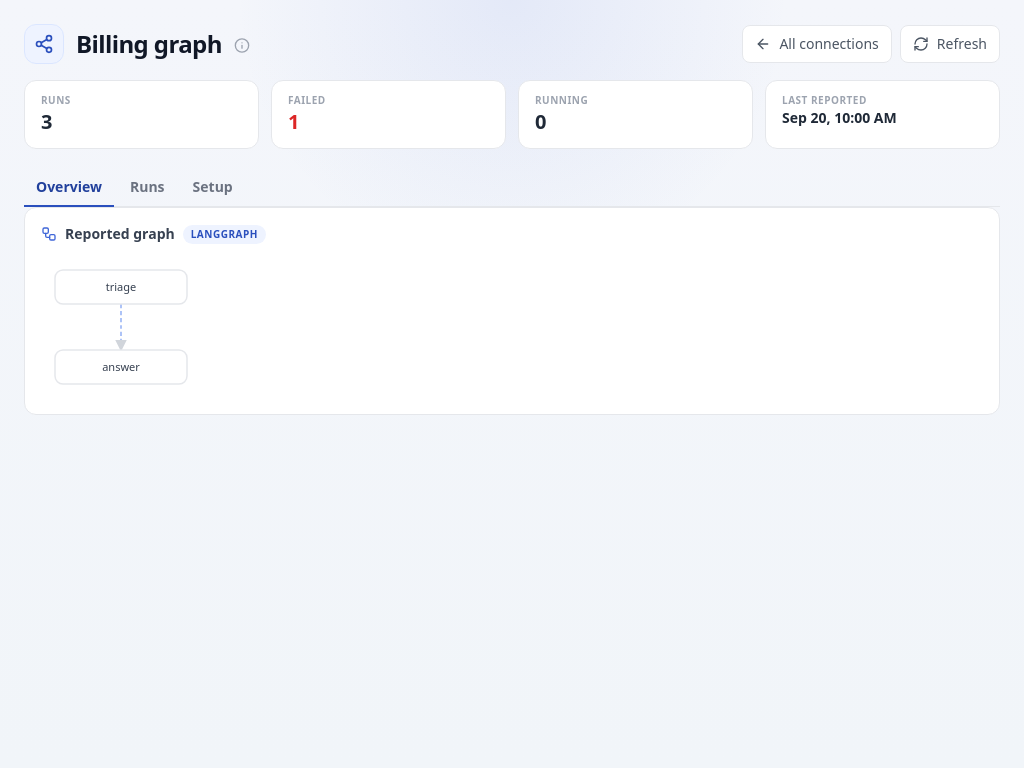
Scenario: ConnectionDetail › shows a rotated token once, and only after rotating
The width and height of the screenshot is (1024, 768).
Expected: the heading "Billing graph" is shown, [76,28,222,60]
Click the button "Setup".
click(213, 188)  # box [181,169,245,207]
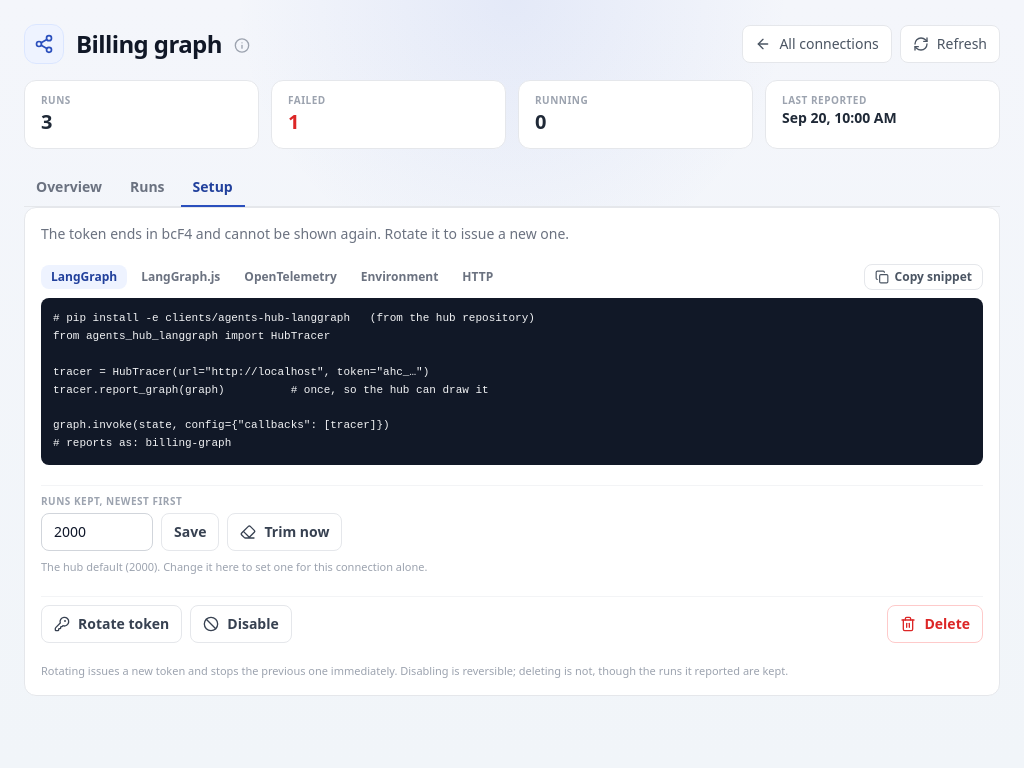
Click the button "Rotate token".
click(112, 624)  # box [41,604,182,642]
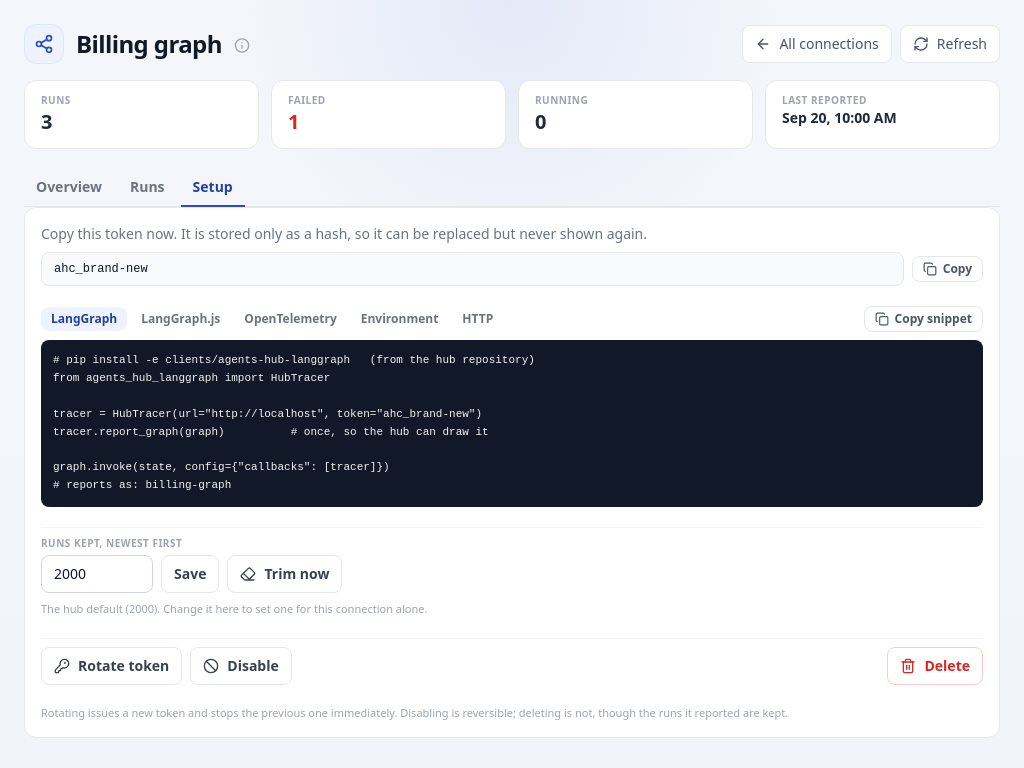
Result: the text "ahc_brand-new" is shown at [41,252,904,286]
